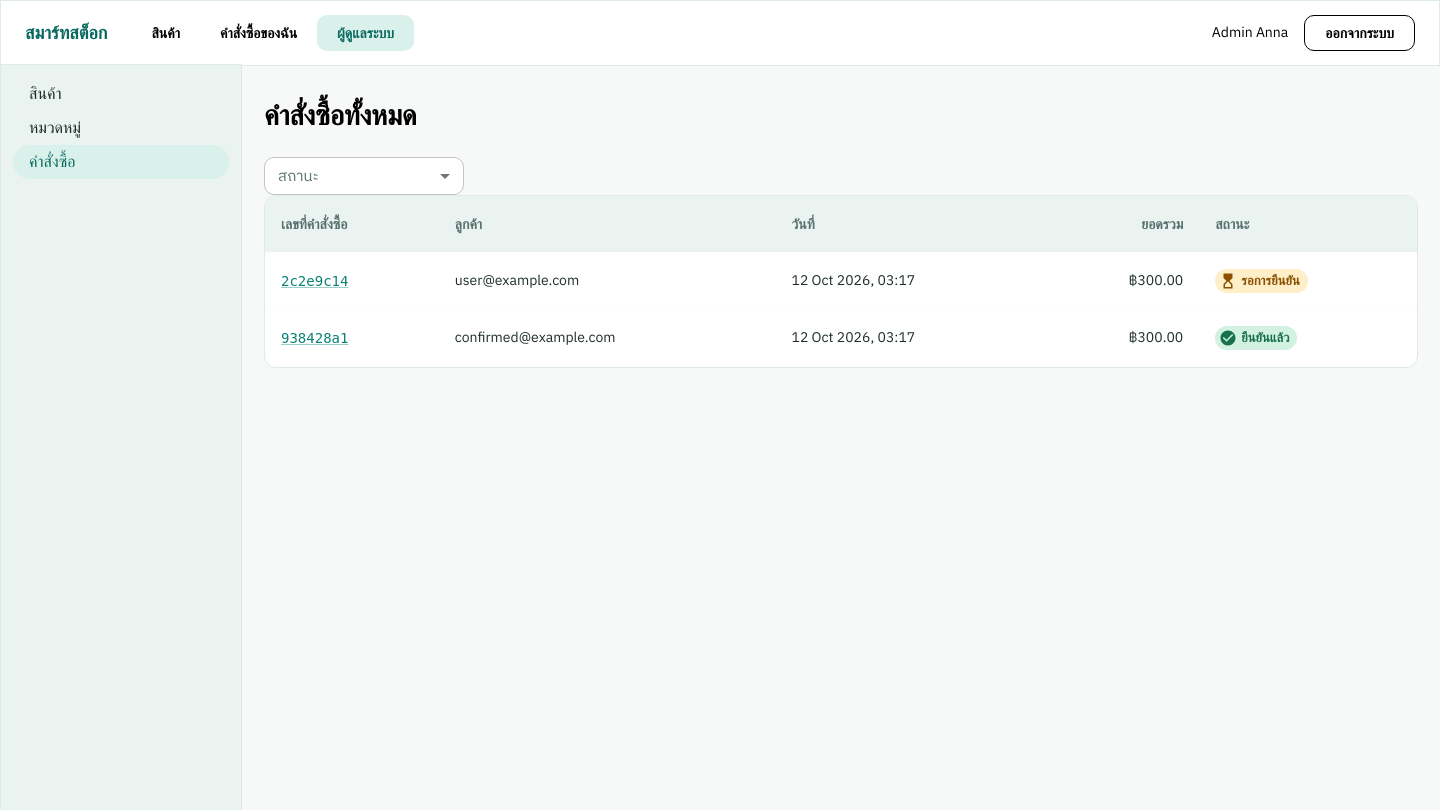
Test: filters by status and keeps the filter in the URL
Expected: the text "confirmed@example.com" is shown, [439,310,776,367]
Click the dropdown named "สถานะ".
click(364, 176)  # box [264,157,464,195]
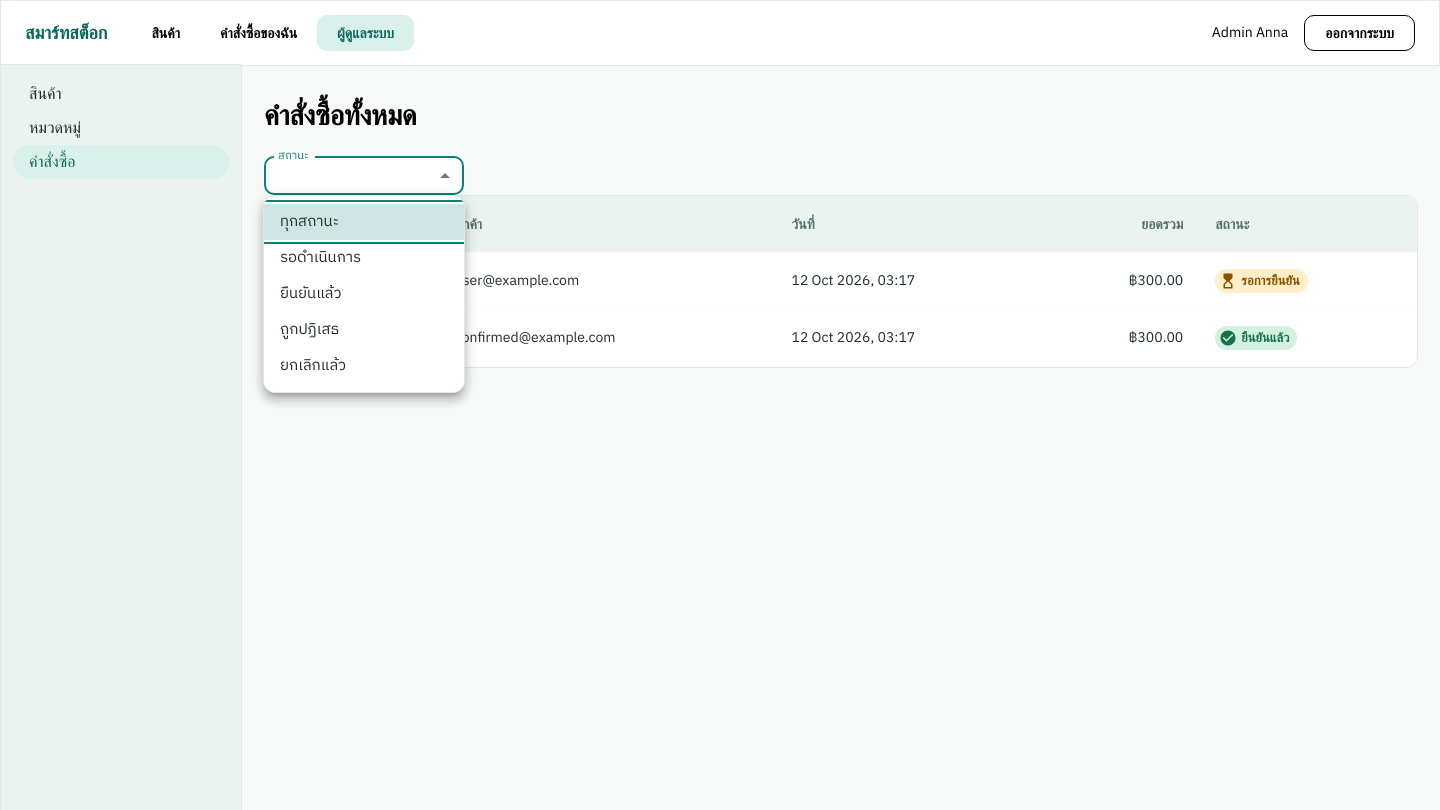
Click the option "ยืนยันแล้ว".
click(311, 294)  # box [280,281,342,306]
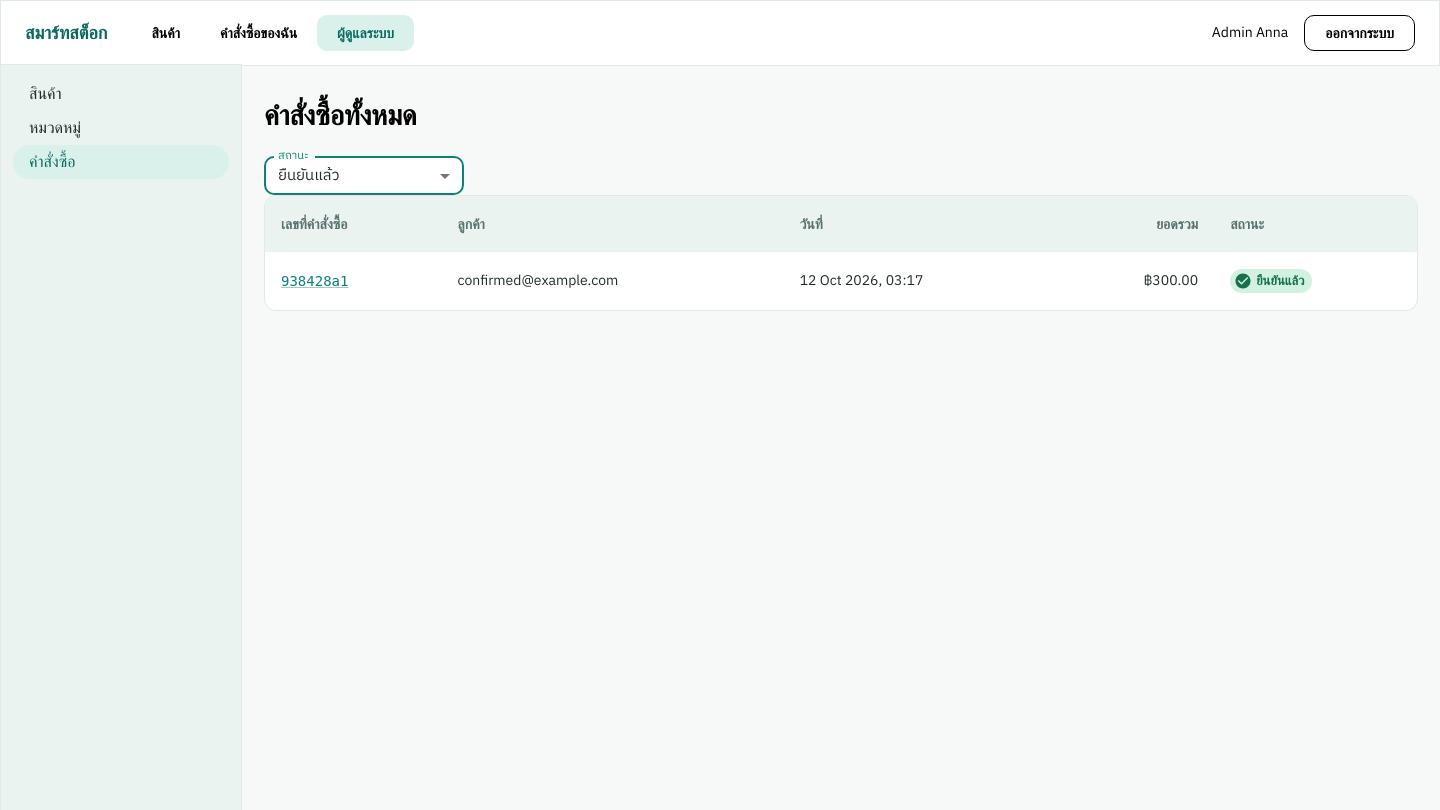
Expected: the text "confirmed@example.com" is shown, [442,253,784,310]
Result: the number of rows is 2 at [265,196,1417,253]; [265,253,1417,310]
